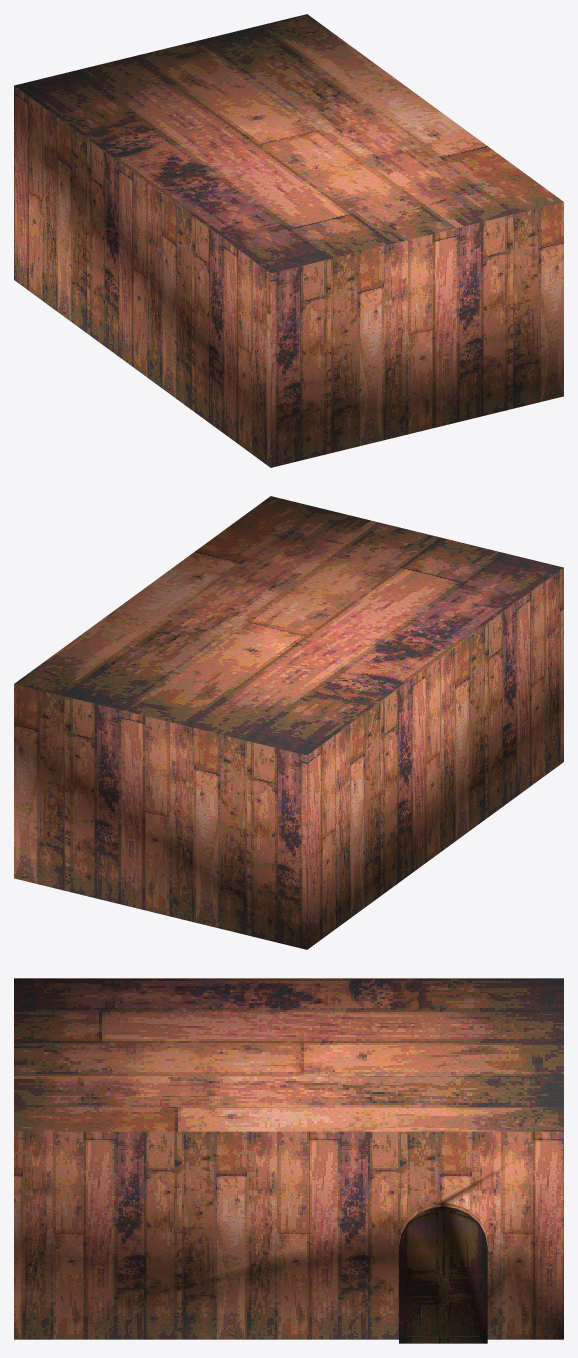
The model's file is room.gltf.
3 renders of one model, top to bottom at view 1: azimuth 30°, elevation 25°; view 2: azimuth 150°, elevation 25°; view 3: azimuth 270°, elevation 25°, orthographic. The views are drawn at different scales.
Visible parts, largest first — view 1: Room; view 2: Room; view 3: Room.
Part boxes in pixels (bbox=[...]): Room: bbox=[14, 14, 563, 467]; Room: bbox=[14, 496, 563, 949]; Room: bbox=[14, 978, 563, 1343].
Size of the model in its own units: 6.31 by 3.89 by 9.33.
2 materials, 2 textured.
